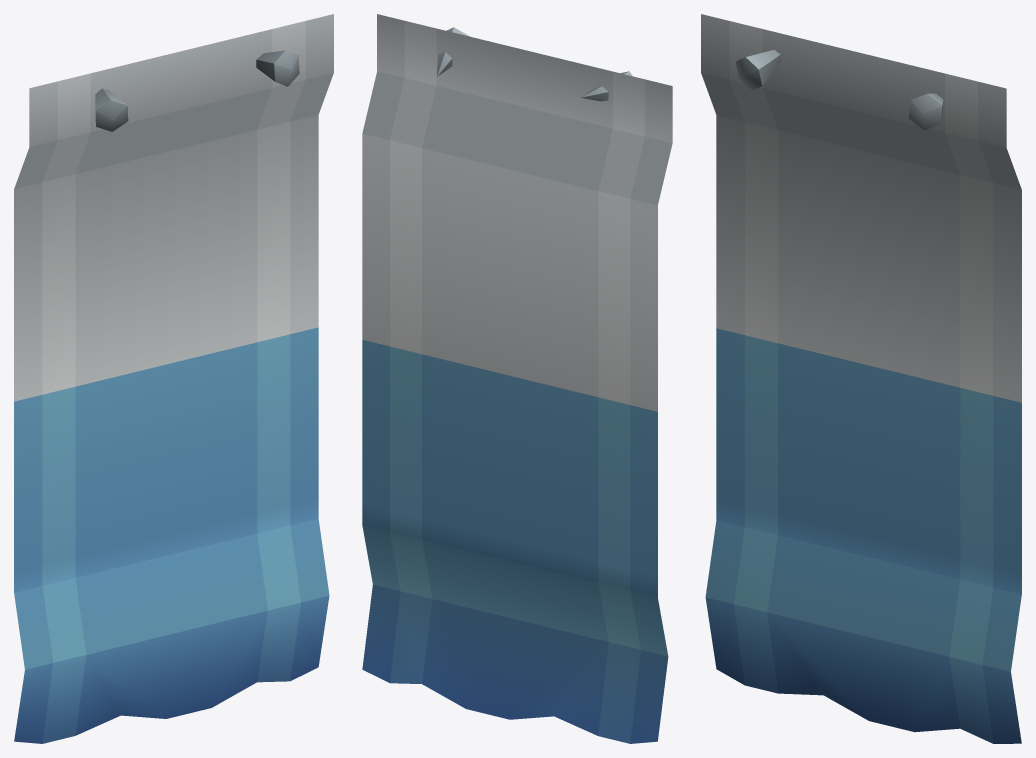
File: banner_pat_b.fbx
The picture shows the model from 3 angles, left to right: view 1: azimuth 30°, elevation 25°; view 2: azimuth 150°, elevation 25°; view 3: azimuth 330°, elevation 25°; orthographic projection. The views are drawn at different scales.
Visible parts, largest first — view 1: banner_patternB_blue; view 2: banner_patternB_blue; view 3: banner_patternB_blue.
Part boxes in pixels (bbox=[...]): banner_patternB_blue: bbox=[14, 14, 333, 743]; banner_patternB_blue: bbox=[362, 14, 672, 743]; banner_patternB_blue: bbox=[701, 14, 1021, 743].
Bounding box in the file's own units: 150 × 320 × 31.19.
1 material, 1 textured.
